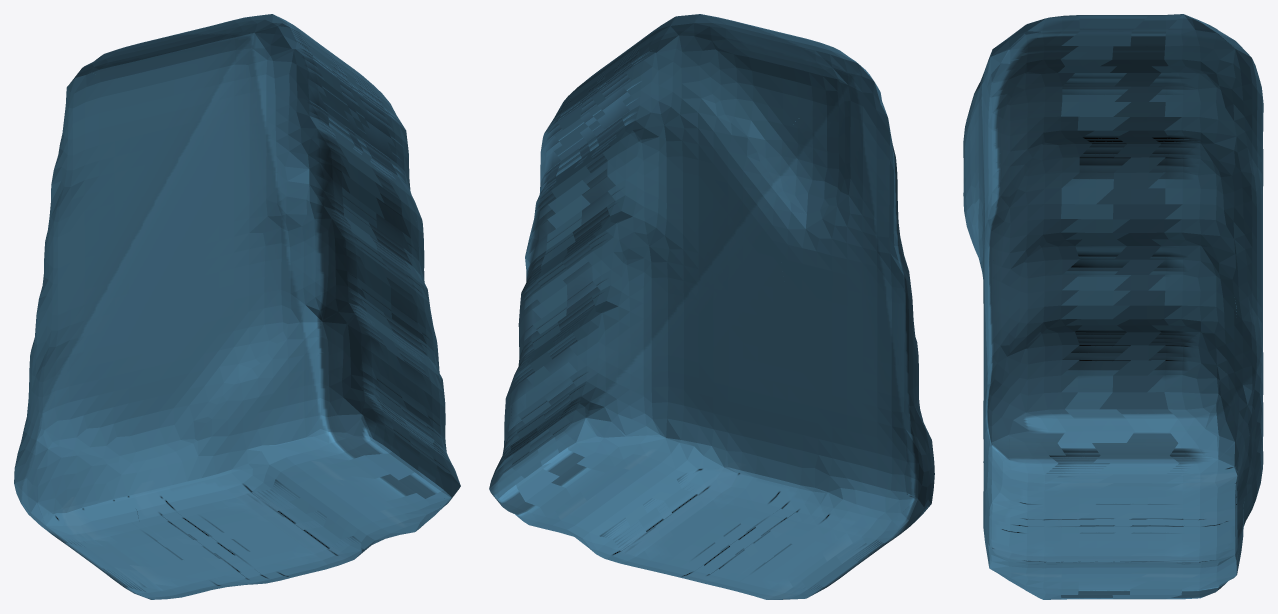
3 views of the same model, side by side, from view 1: azimuth 30°, elevation 25°; view 2: azimuth 150°, elevation 25°; view 3: azimuth 270°, elevation 25° (orthographic).
Visible parts, largest first — view 1: model; view 2: model; view 3: model.
Boxes of the visible parts, x1=… form: model: x1=14, y1=14, x2=460, y2=599; model: x1=489, y1=14, x2=934, y2=599; model: x1=963, y1=14, x2=1263, y2=599.
Bounding box in the file's own units: 0.7953 × 1 × 0.5723.
Materials: 1 (1 with a texture image).
